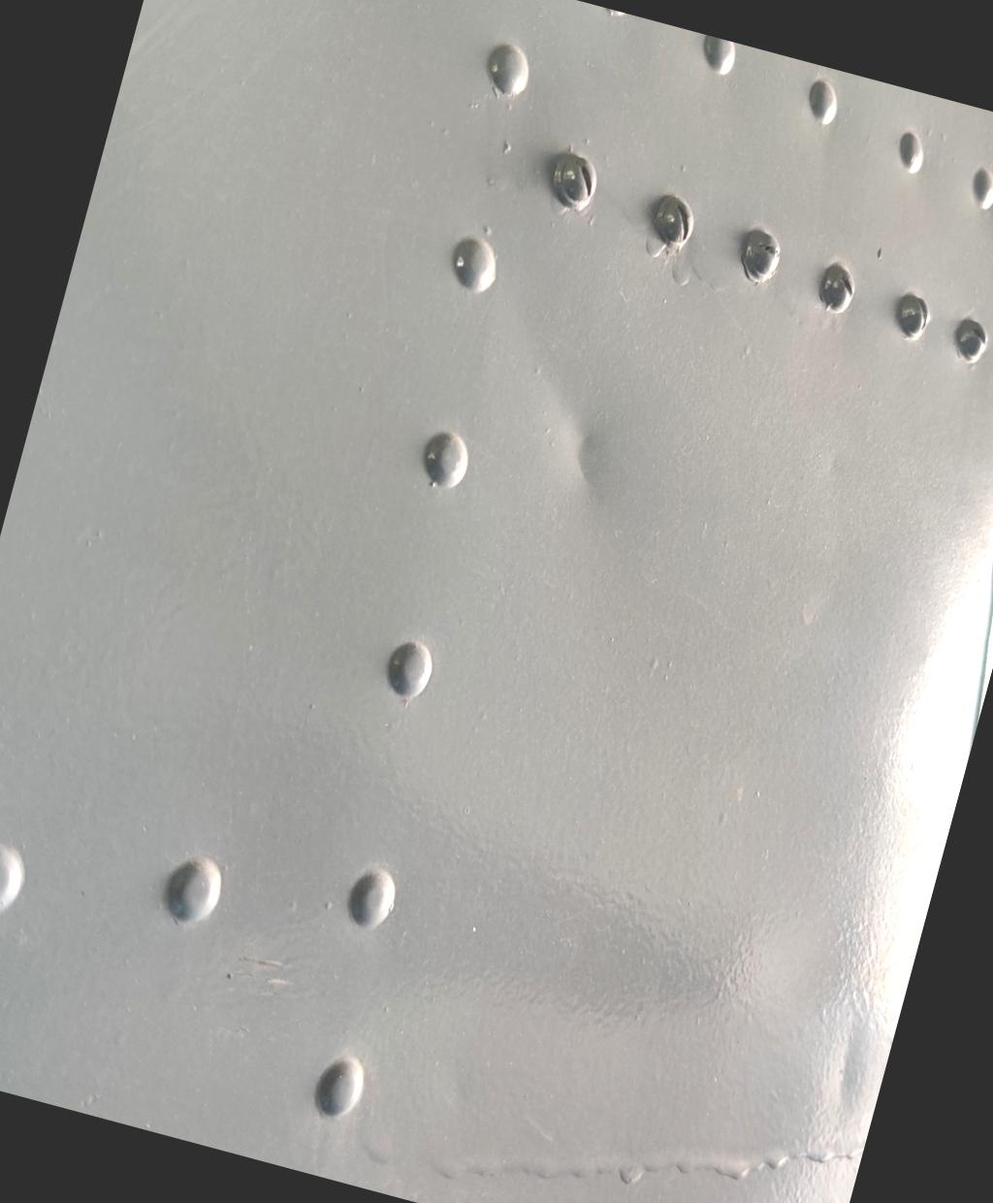dent: (504, 360, 652, 531)
